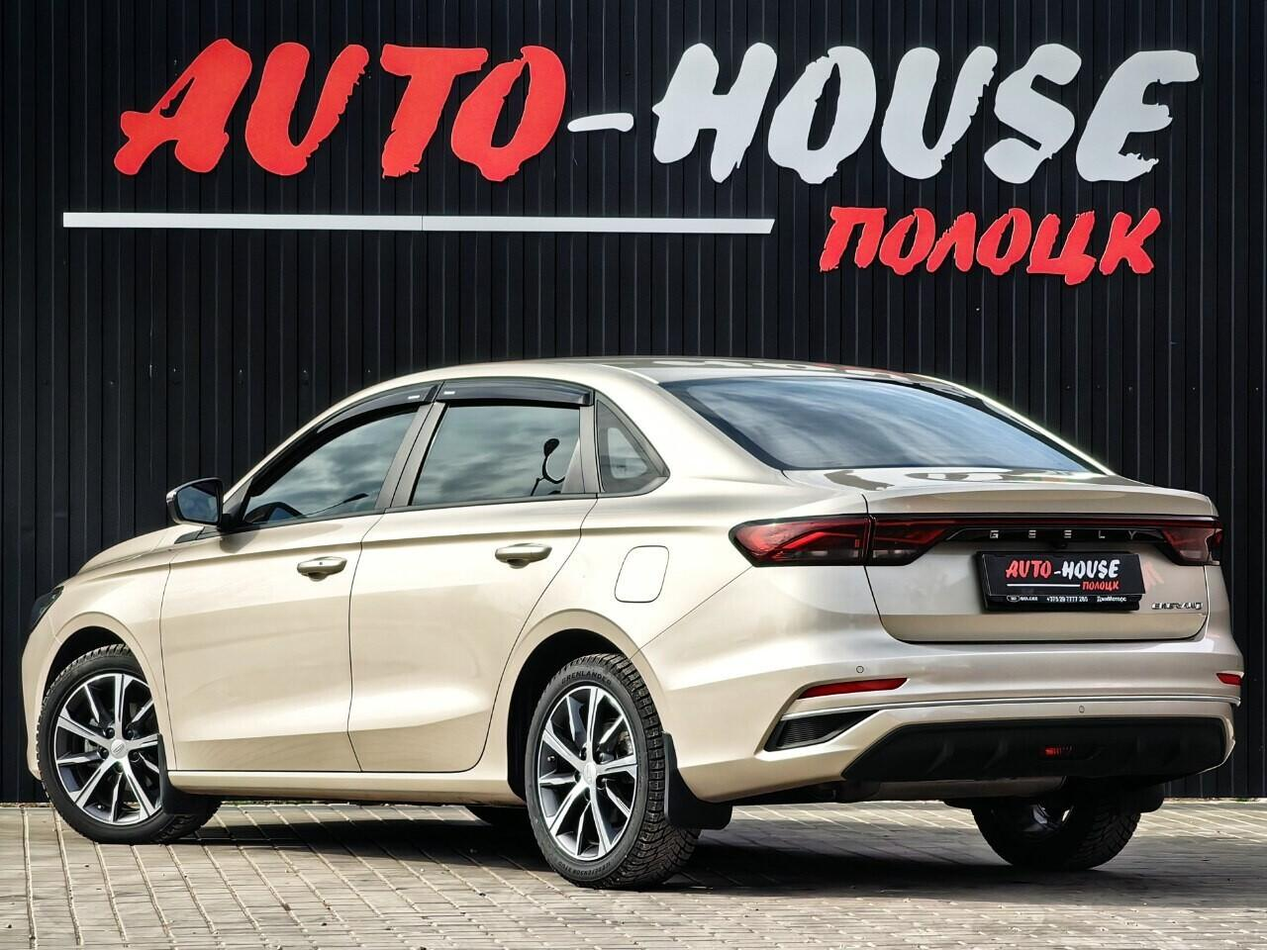Emgrand_2021: (9, 344, 1247, 891)
